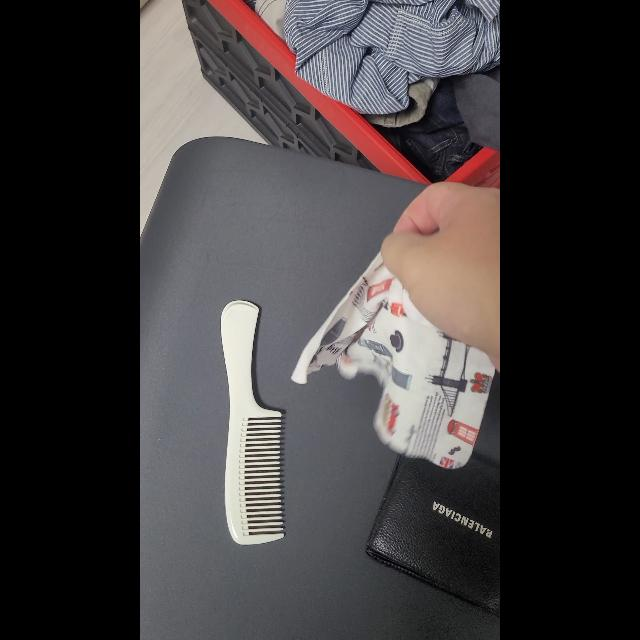COMB: (220, 300, 286, 544)
Glasses cleaning cloth: (290, 252, 496, 468)
WALLET: (364, 452, 500, 616)
